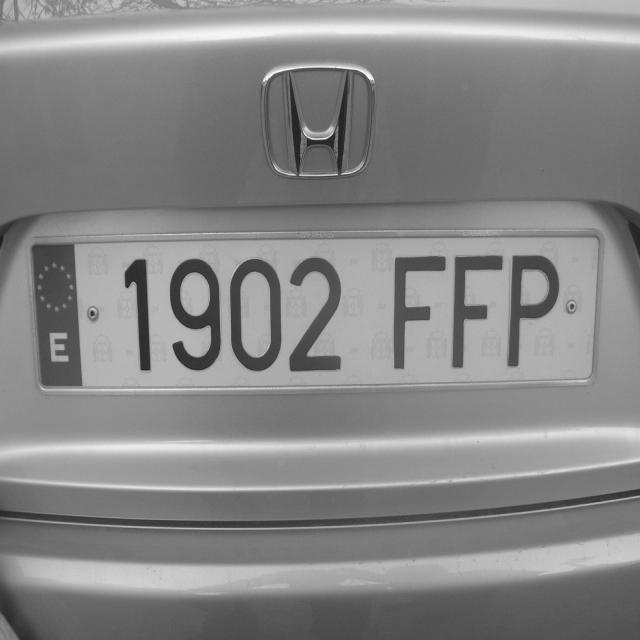license_plate-34Td: (37, 231, 599, 388)
